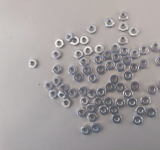nut: (112, 114, 123, 125), (148, 85, 158, 96), (141, 96, 152, 106), (147, 108, 157, 119), (136, 106, 146, 117), (133, 115, 143, 126), (139, 45, 150, 55), (139, 59, 150, 69), (88, 74, 99, 84), (79, 57, 90, 67), (130, 49, 141, 59), (110, 43, 121, 53), (123, 55, 133, 66), (91, 124, 101, 134), (81, 126, 91, 136), (77, 108, 87, 118), (88, 113, 98, 123), (99, 106, 109, 116), (116, 98, 126, 108), (128, 98, 138, 108), (131, 82, 141, 92), (124, 71, 134, 81), (119, 35, 129, 45), (129, 26, 139, 36), (119, 22, 129, 32), (119, 11, 129, 21), (105, 18, 115, 28), (87, 24, 97, 34), (95, 44, 105, 54), (80, 35, 90, 45), (83, 46, 93, 56), (94, 55, 104, 65), (96, 65, 106, 75), (105, 83, 115, 93), (110, 75, 120, 85), (116, 83, 126, 93), (124, 89, 134, 99), (53, 65, 63, 75), (52, 50, 62, 60), (65, 32, 75, 42), (104, 97, 114, 107), (97, 88, 107, 98), (79, 87, 89, 97), (87, 89, 97, 99), (68, 88, 78, 98), (120, 46, 130, 56), (116, 62, 126, 72), (112, 52, 122, 62), (130, 63, 140, 73), (28, 59, 38, 69), (151, 42, 160, 52), (55, 39, 65, 48), (68, 66, 78, 75), (74, 73, 84, 82), (83, 66, 93, 75), (74, 50, 84, 59), (71, 36, 80, 46), (62, 99, 72, 108), (103, 51, 113, 60), (106, 61, 116, 70), (81, 97, 90, 106), (87, 104, 96, 113), (49, 90, 58, 99), (52, 77, 61, 86), (59, 84, 68, 93), (58, 91, 67, 100), (45, 81, 53, 91), (110, 106, 120, 114), (94, 99, 103, 107), (156, 56, 160, 66), (159, 81, 160, 91)
